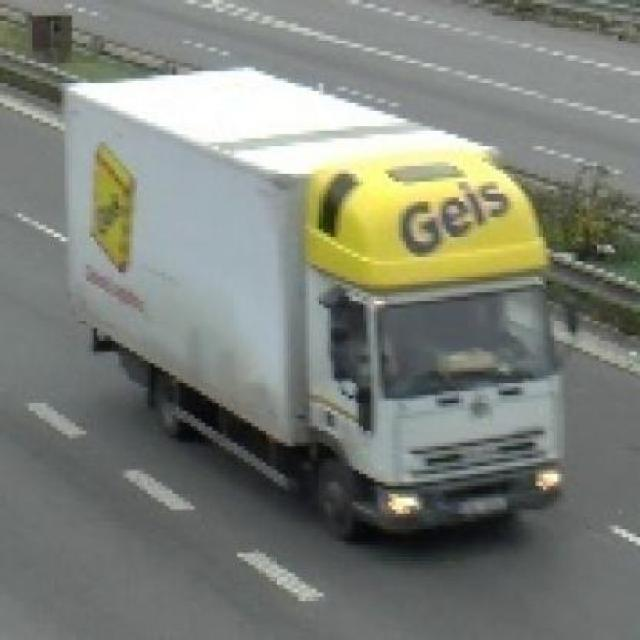truck: (70, 60, 584, 539)
